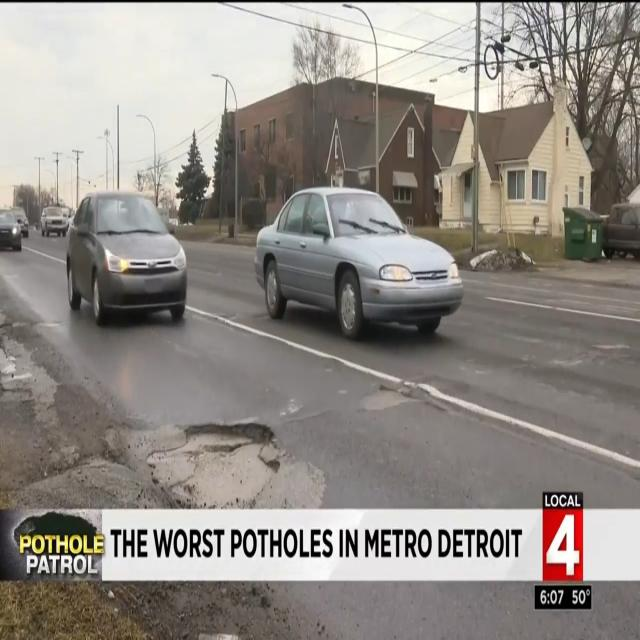pothole: (147, 433, 270, 506), (185, 422, 274, 443)
